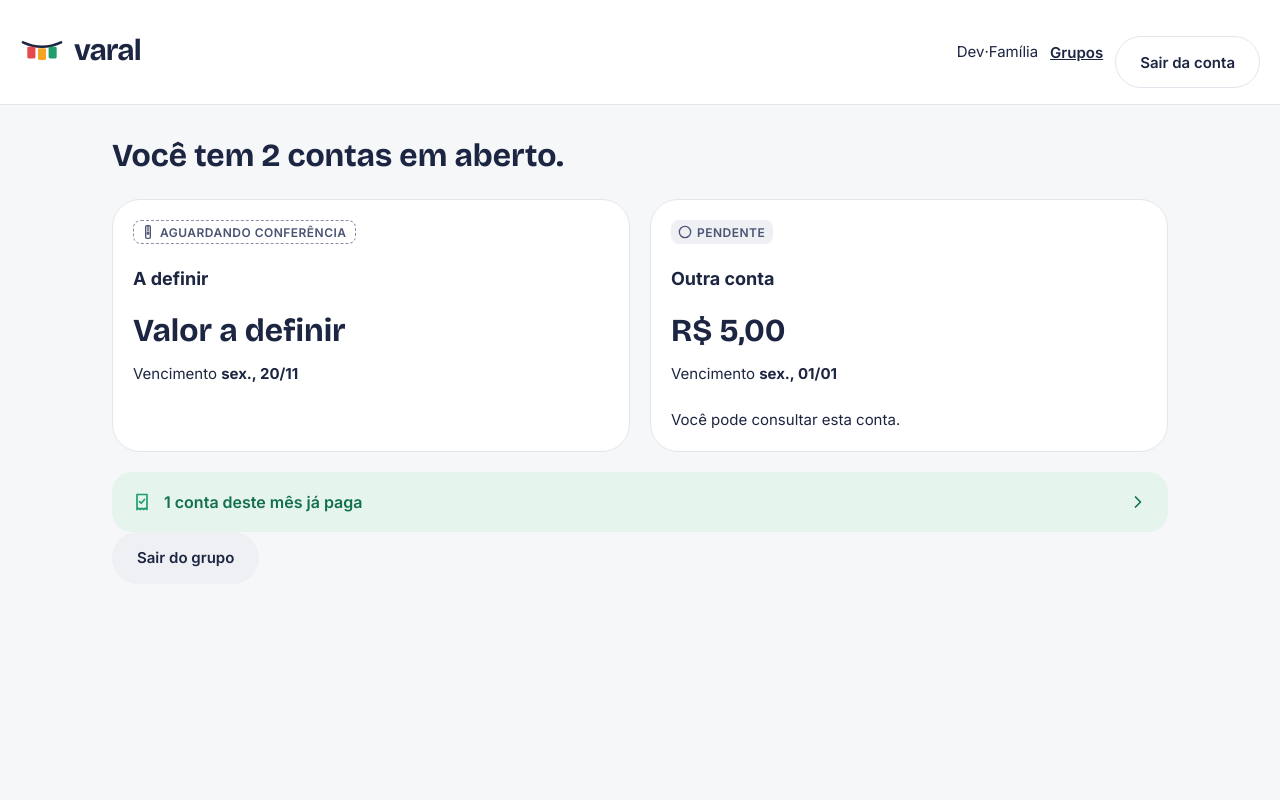
Scenario: Q10-12: abertas incluem NULL e conta visível sem permissão, sem fingir que são pagáveis
Expected: the heading "Você tem 2 contas em aberto." is shown, [112,136,564,175]
Expected: the text "Valor a definir" is shown, [133,312,346,351]
Click the button "1 conta deste mês já paga".
click(269, 502)  # box [112,472,1168,532]
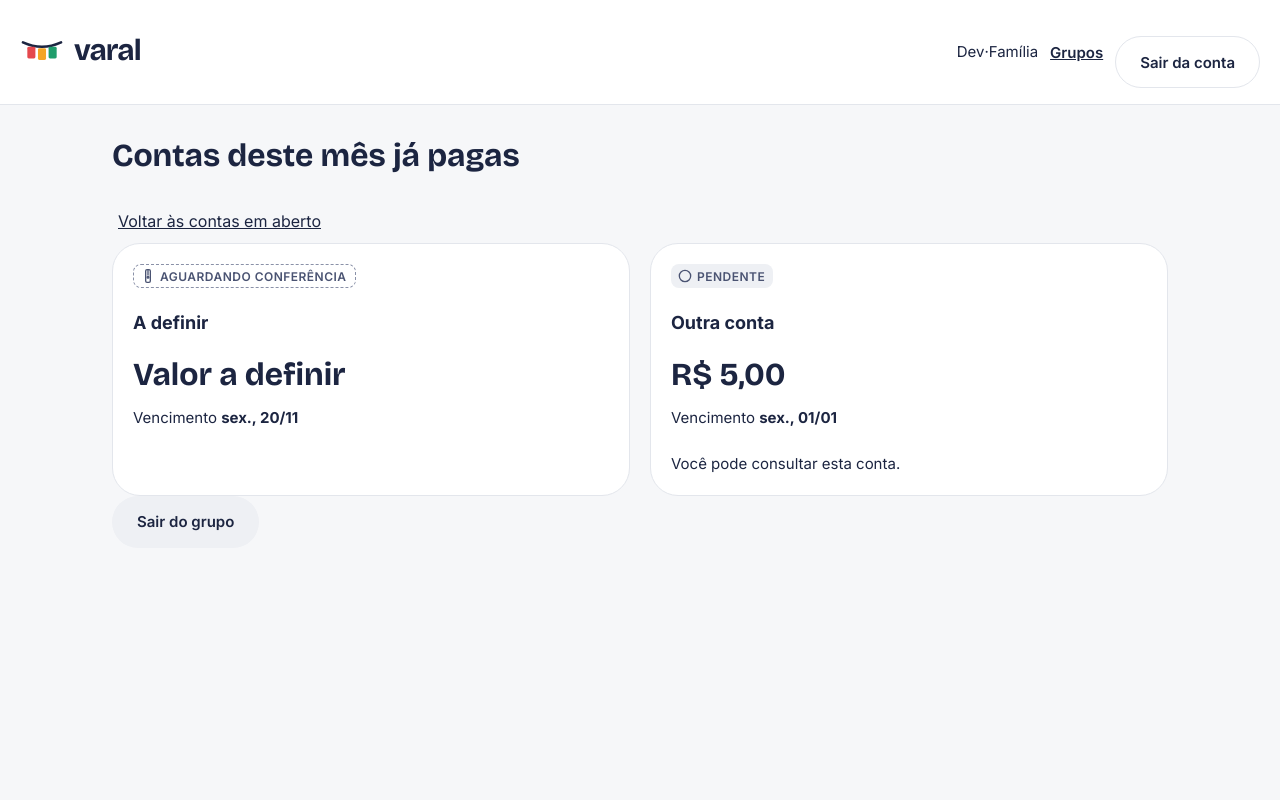
Expected: the heading "Contas deste mês já pagas" is shown, [112,136,520,175]
